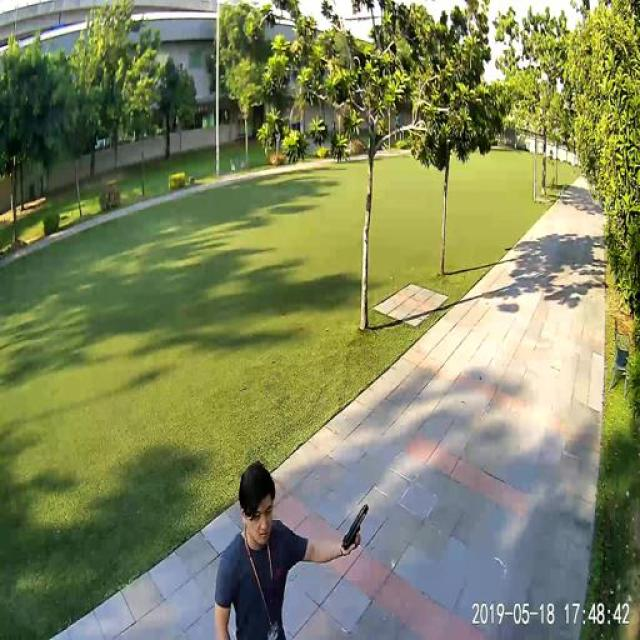senjata_api: (341, 502, 374, 549)
